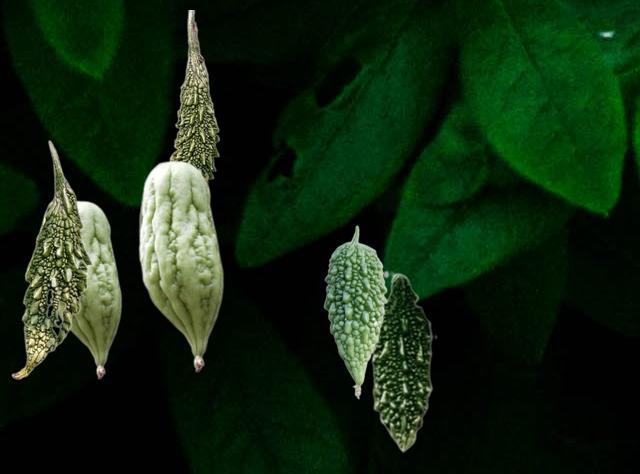ampalaya: (11, 139, 92, 378), (138, 160, 223, 371), (53, 200, 121, 378), (371, 270, 436, 452), (323, 225, 386, 398), (169, 10, 219, 185)
